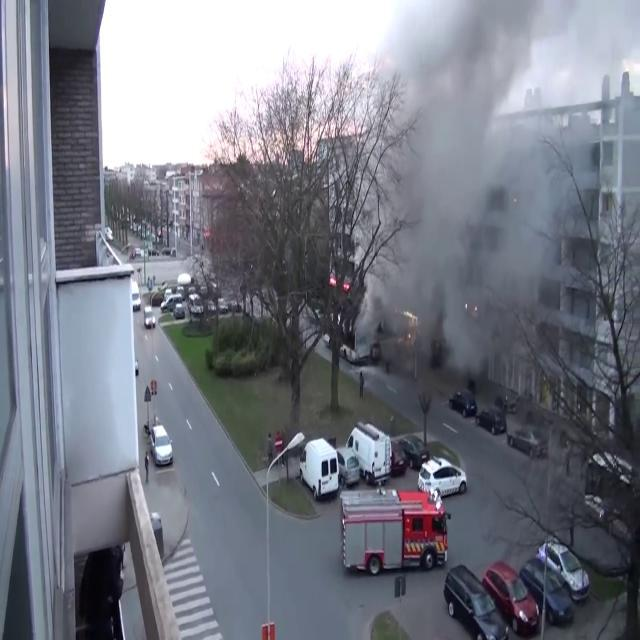Smoke: (365, 0, 639, 340)
